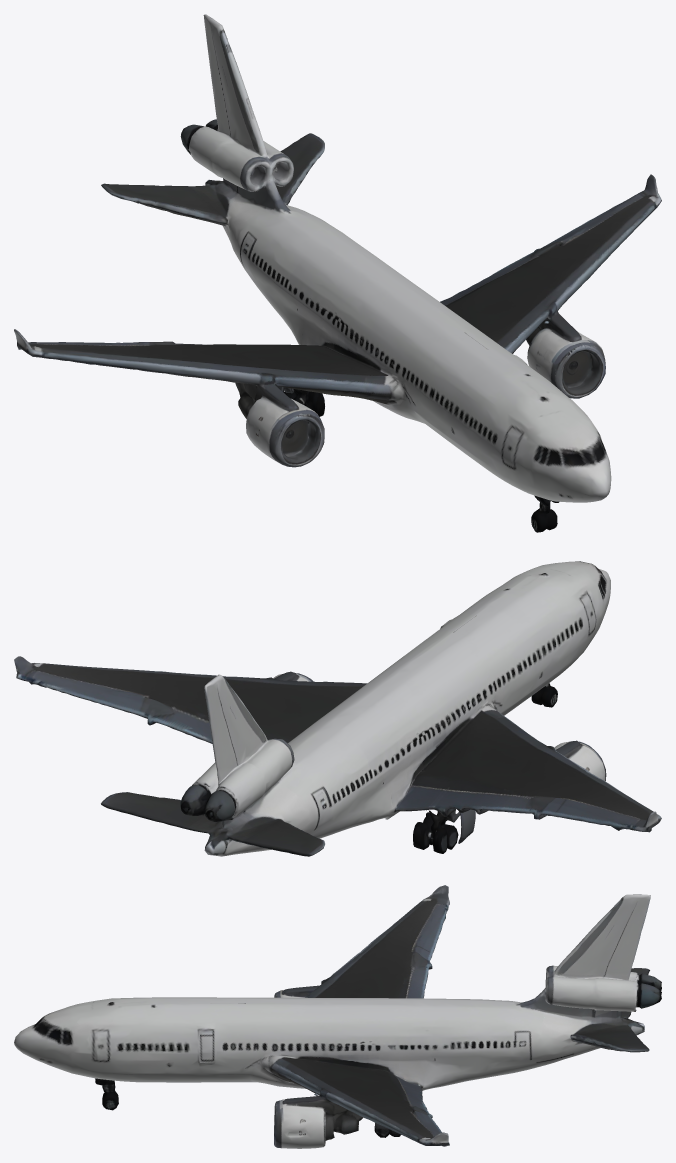
The picture shows the model from 3 angles, top to bottom: view 1: azimuth 30°, elevation 25°; view 2: azimuth 150°, elevation 25°; view 3: azimuth 270°, elevation 25°; orthographic projection. The views are drawn at different scales.
Parts seen in each view (by area): view 1: tripo_node_2c933e93-2fc5-4268-8fb2-7fdc487ae81f; view 2: tripo_node_2c933e93-2fc5-4268-8fb2-7fdc487ae81f; view 3: tripo_node_2c933e93-2fc5-4268-8fb2-7fdc487ae81f.
Boxes of the visible parts, bbox=[...] form: tripo_node_2c933e93-2fc5-4268-8fb2-7fdc487ae81f: bbox=[14, 14, 661, 532]; tripo_node_2c933e93-2fc5-4268-8fb2-7fdc487ae81f: bbox=[14, 561, 661, 856]; tripo_node_2c933e93-2fc5-4268-8fb2-7fdc487ae81f: bbox=[14, 885, 661, 1148].
Bounding box in the file's own units: 0.9028 × 0.363 × 0.9998.
1 material, 1 textured.
